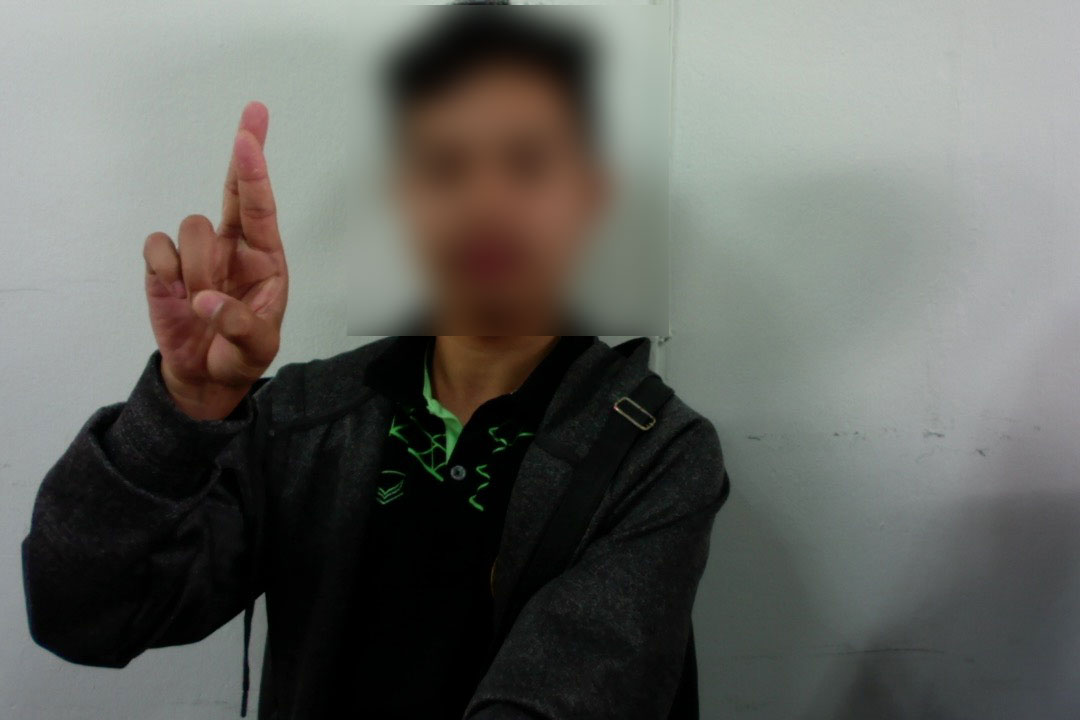rao: (125, 100, 301, 394)
